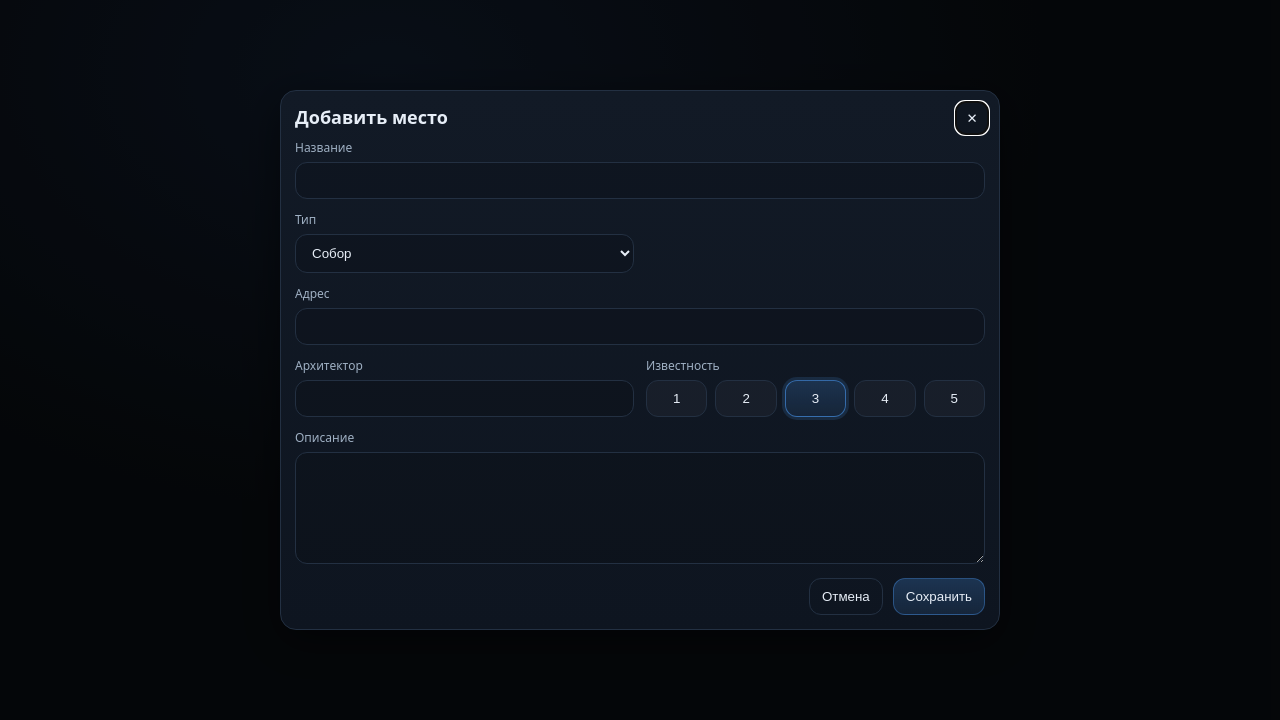
Test: PlaceModal — режим add › показывает "Сохранение..." во время запроса
The image size is (1280, 720).
Click the button "Сохранить": point(939, 596) left=893, top=578, right=985, bottom=615
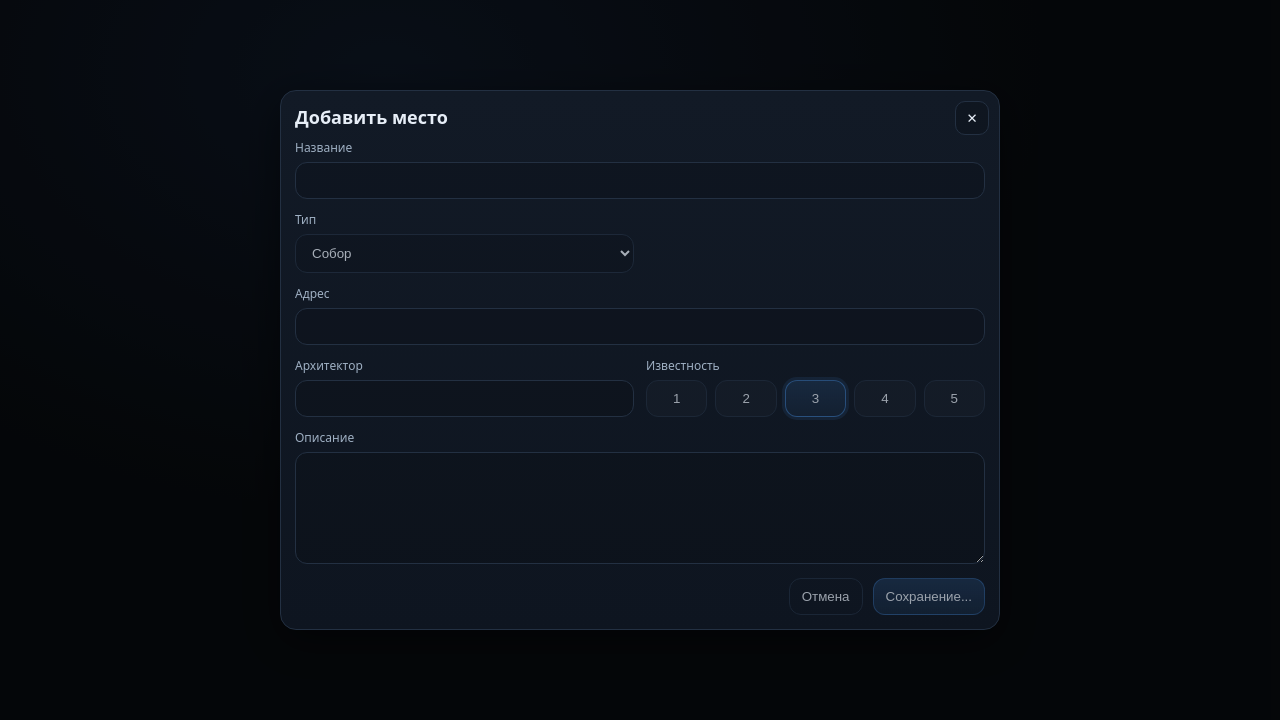
expect the button "Сохранение..." is disabled: met, box left=872, top=578, right=985, bottom=615
